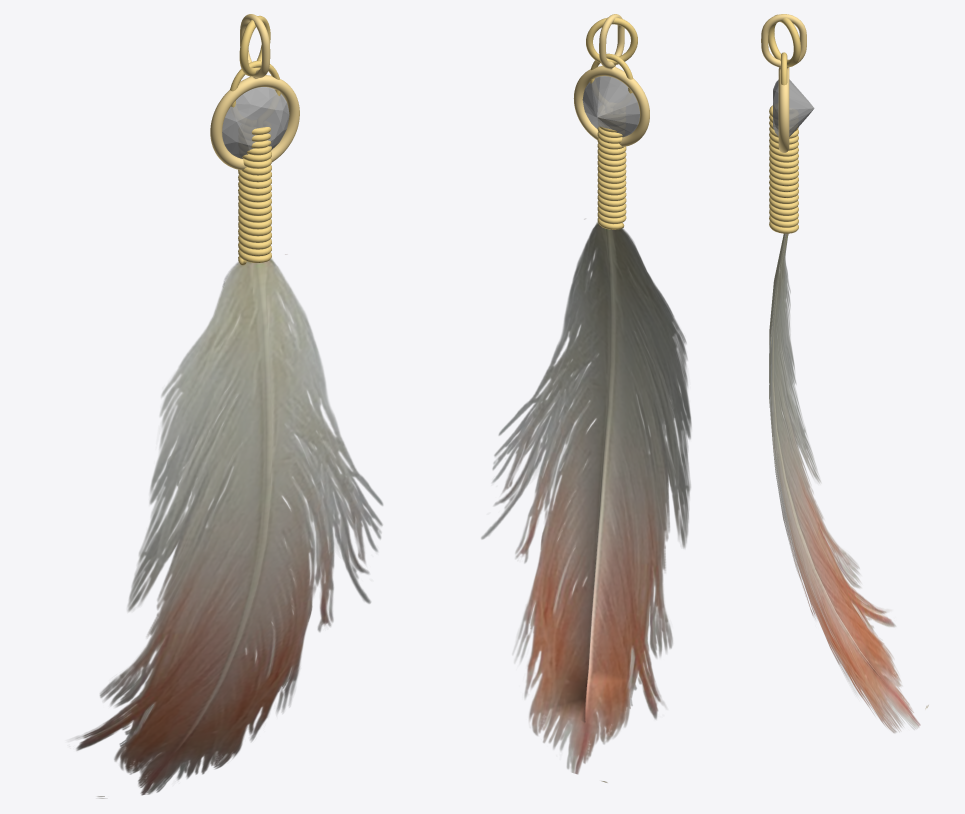
File: gem_drop.glb
3 renders of one model, left to right at view 1: azimuth 30°, elevation 25°; view 2: azimuth 150°, elevation 25°; view 3: azimuth 270°, elevation 25°, orthographic. The views are drawn at different scales.
Parts seen in each view (by area): view 1: feather, gold, dem_drop, diamond; view 2: feather, gold, dem_drop, diamond; view 3: feather, gold, dem_drop, diamond.
Part boxes in pixels (x1,y1,x2,y2): feather: (73,254,383,798); gold: (230,15,280,265); dem_drop: (210,14,299,170); diamond: (222,87,289,158); feather: (481,218,691,782); gold: (586,17,637,229); dem_drop: (573,14,649,146); diamond: (582,76,639,137); feather: (769,233,928,733); gold: (768,14,800,233); dem_drop: (761,14,806,152); diamond: (773,79,814,136).
Bounding box in the file's own units: 0.0254 × 0.064 × 0.015.
Materials: 4 (3 with a texture image).
